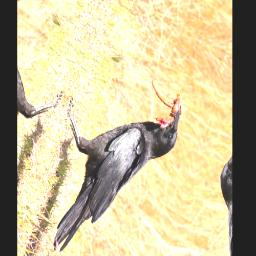Crow: (24, 30, 196, 256)
